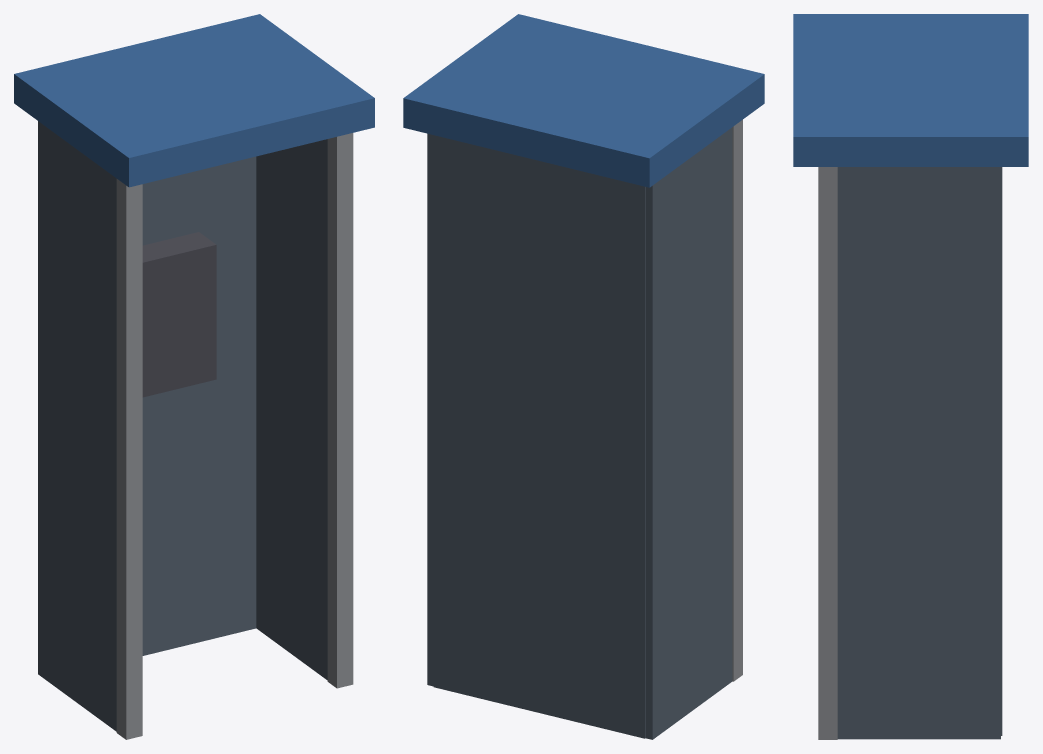
The model's file is payphone.glb.
3 renders of one model, left to right at view 1: azimuth 30°, elevation 25°; view 2: azimuth 150°, elevation 25°; view 3: azimuth 270°, elevation 25°, orthographic. The views are drawn at different scales.
Parts seen in each view (by area): view 1: Cube.001, Cube, Cube.003, Cube.002, Cube.004, Cube.005, Cube.006; view 2: Cube, Cube.001, Cube.003, Cube.004, Cube.002; view 3: Cube.002, Cube.003, Cube.005, Cube.
Part boxes in pixels (bbox=[...]): Cube.001: bbox=[38, 121, 116, 731]; Cube: bbox=[142, 156, 256, 655]; Cube.003: bbox=[14, 14, 374, 187]; Cube.002: bbox=[256, 139, 327, 680]; Cube.004: bbox=[116, 179, 142, 739]; Cube.005: bbox=[327, 133, 353, 688]; Cube.006: bbox=[142, 232, 216, 397]; Cube: bbox=[433, 135, 645, 738]; Cube.001: bbox=[645, 127, 732, 739]; Cube.003: bbox=[403, 14, 764, 187]; Cube.004: bbox=[732, 119, 742, 681]; Cube.002: bbox=[427, 133, 433, 686]; Cube.002: bbox=[837, 167, 1000, 739]; Cube.003: bbox=[793, 14, 1028, 166]; Cube.005: bbox=[818, 167, 837, 739]; Cube: bbox=[1001, 167, 1002, 735].
Size of what is drawn, in the model's own units: 1.05 by 2.42 by 0.85.
